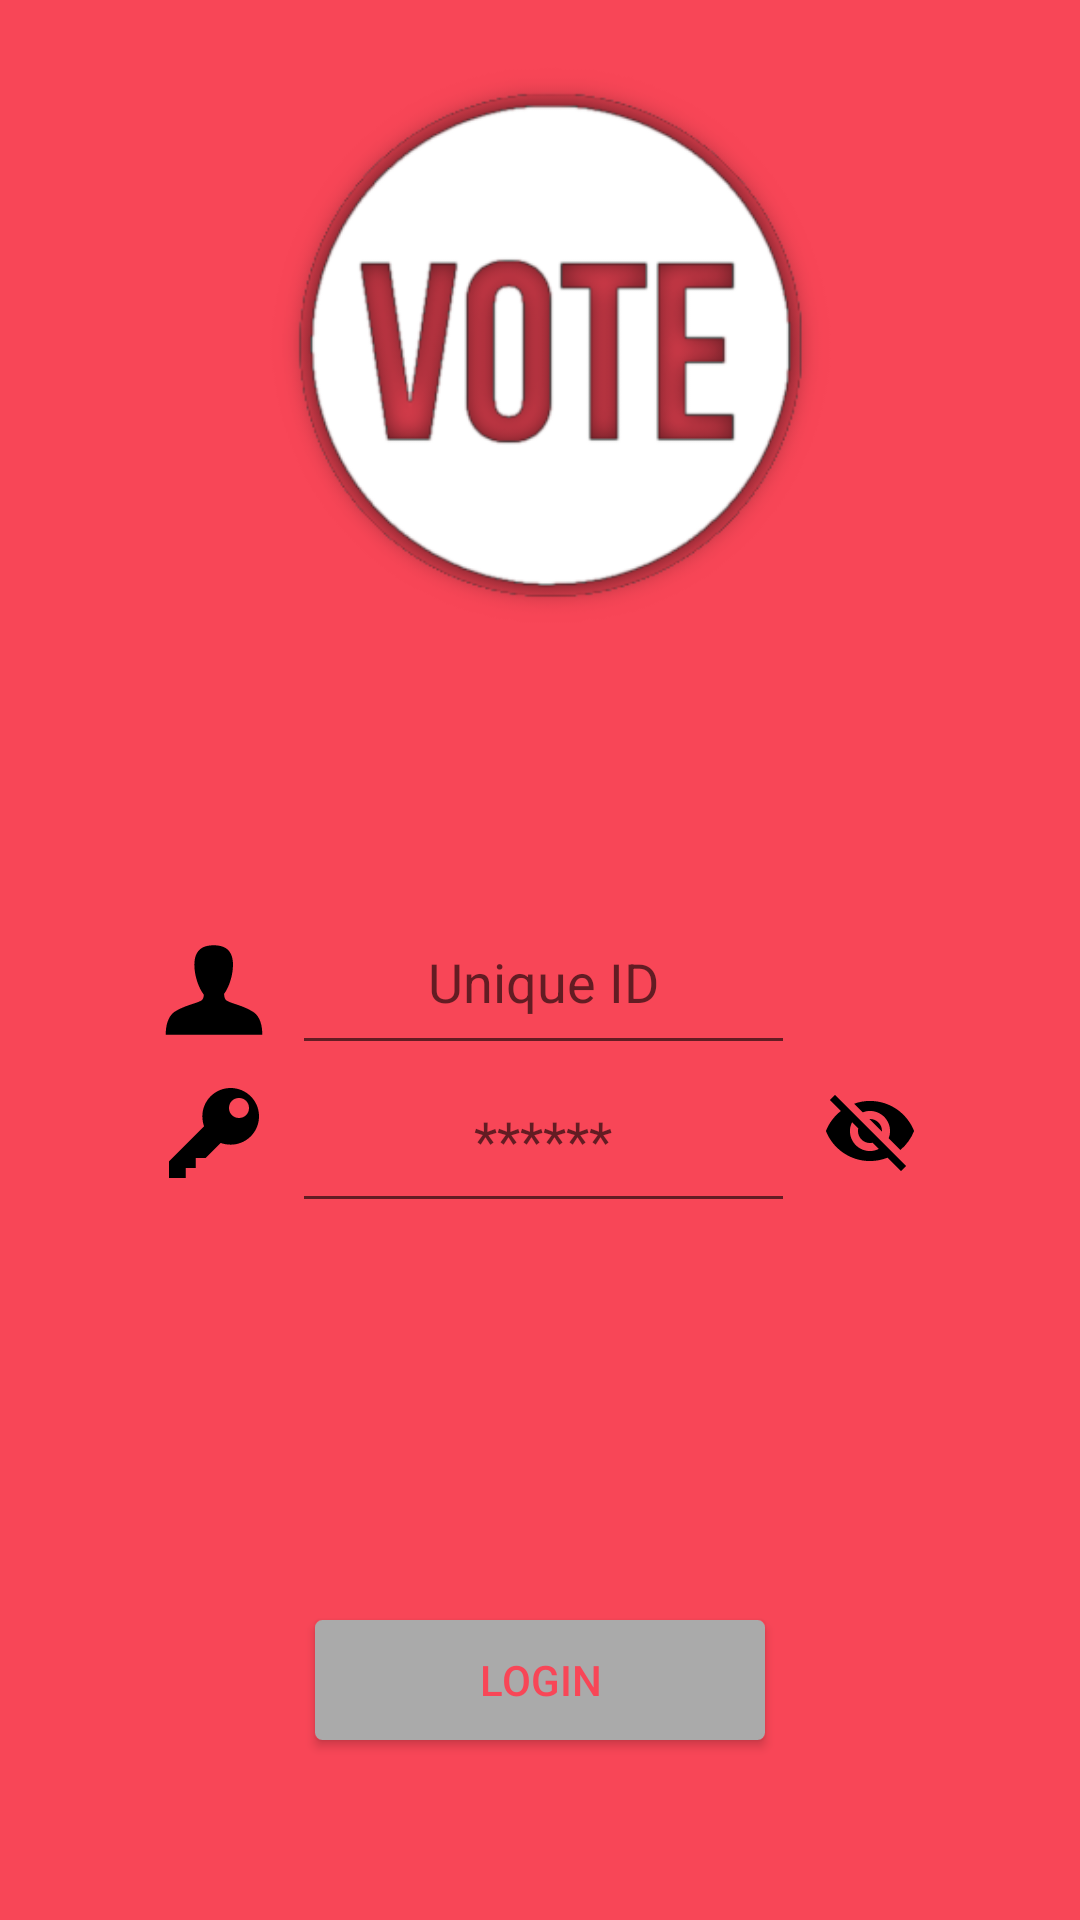

Screen size 1080*1920. Icon name, then its center in pixels as (x=x, y=y):
password: (x=214, y=1133)
user: (x=214, y=990)
visibility off: (x=870, y=1133)
